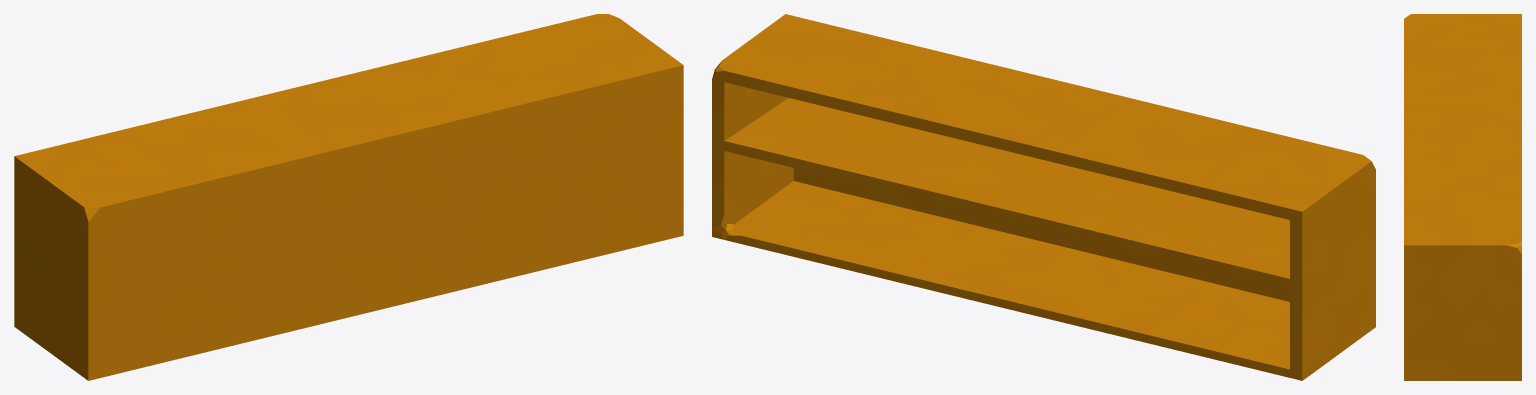
Rendered from Shelf_3.fbx.
The picture shows the model from 3 angles, left to right: view 1: azimuth 30°, elevation 25°; view 2: azimuth 150°, elevation 25°; view 3: azimuth 270°, elevation 25°; orthographic projection. The views are drawn at different scales.
Parts seen in each view (by area): view 1: Shelf 3; view 2: Shelf 3; view 3: Shelf 3.
Boxes of the visible parts, box(x1,y1,x2,y2) form: Shelf 3: box(14, 14, 683, 380); Shelf 3: box(712, 14, 1375, 380); Shelf 3: box(1404, 14, 1521, 380).
Size of the model in its own units: 200 by 54.76 by 43.11.
